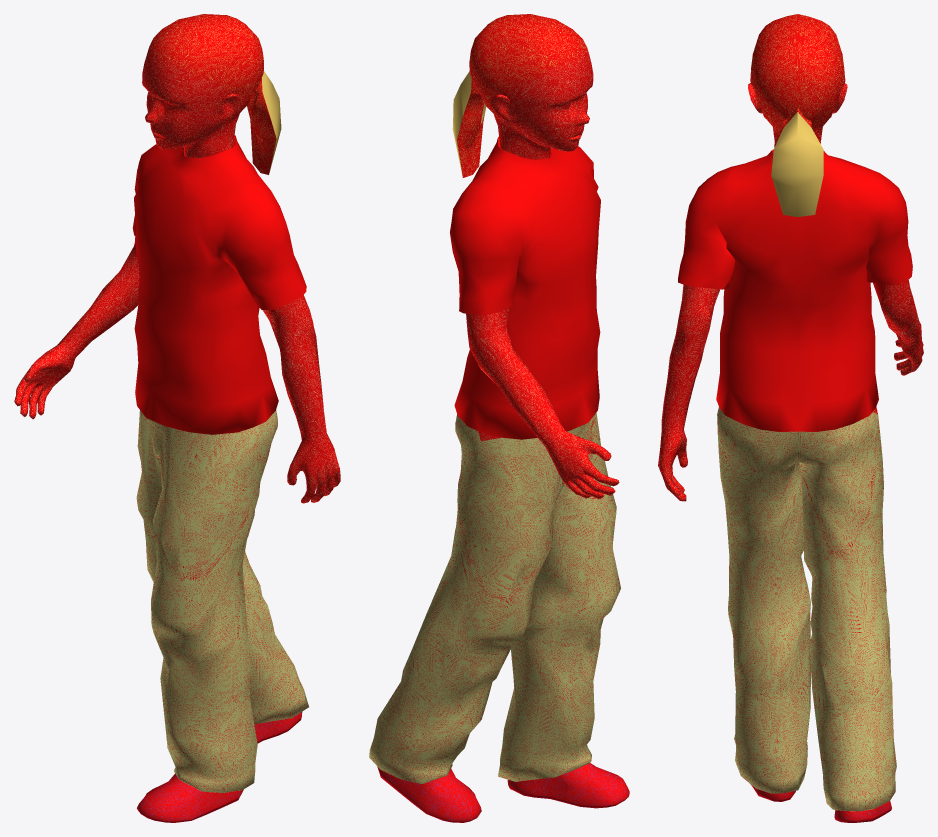
The picture shows the model from 3 angles, left to right: view 1: azimuth 30°, elevation 25°; view 2: azimuth 150°, elevation 25°; view 3: azimuth 270°, elevation 25°; orthographic projection.
Visible parts, largest first — view 1: child01_f_1; view 2: child01_f_1; view 3: child01_f_1.
Part boxes in pixels (x1=…): child01_f_1: x1=14, y1=14, x2=340, y2=822; child01_f_1: x1=369, y1=14, x2=629, y2=822; child01_f_1: x1=658, y1=14, x2=923, y2=822.
Bounding box in the file's own units: 51.58 × 143 × 44.97.
